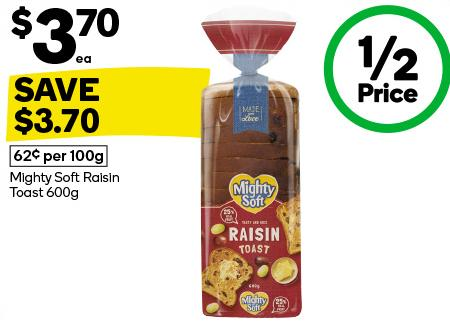description_block: (5, 169, 141, 210)
price_main: (3, 3, 134, 69)
product_image_block: (177, 14, 317, 320)
promo_text_block: (3, 71, 173, 142)
unit_price_block: (3, 144, 131, 171)
